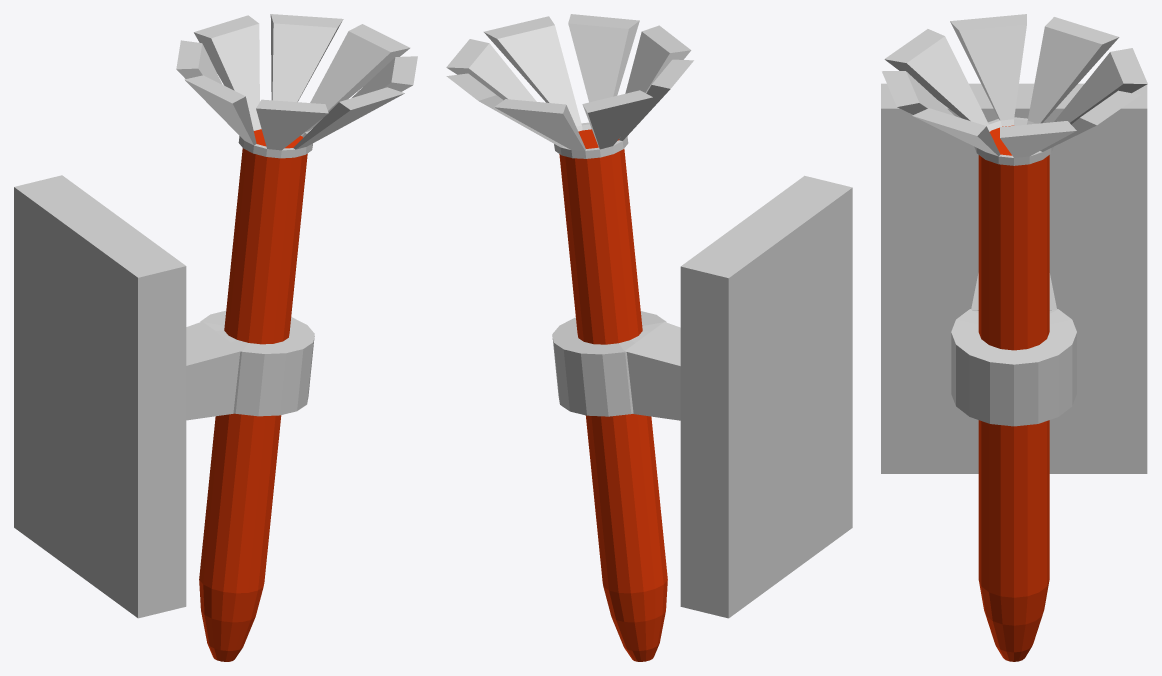
File: MedivalTorch.fbx
The picture shows the model from 3 angles, left to right: view 1: azimuth 30°, elevation 25°; view 2: azimuth 150°, elevation 25°; view 3: azimuth 270°, elevation 25°; orthographic projection. The views are drawn at different scales.
Parts seen in each view (by area): view 1: Cylinder; view 2: Cylinder; view 3: Cylinder.
Boxes of the visible parts, <box> form: Cylinder: <box>14,14,417,661</box>; Cylinder: <box>446,14,852,661</box>; Cylinder: <box>881,14,1147,661</box>.
Bounding box in the file's own units: 27.64 × 46.97 × 18.18.
